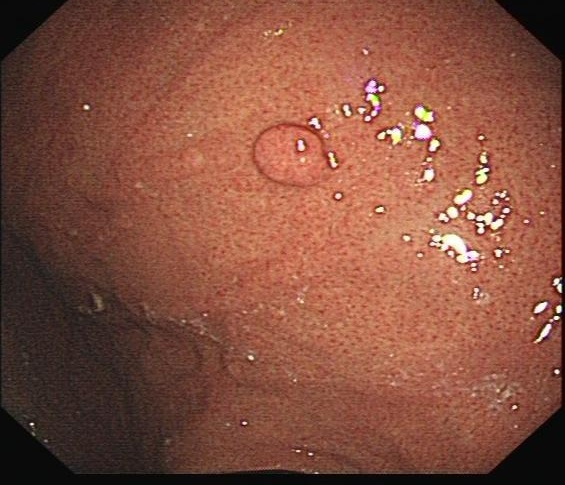Polyp: (257, 120, 335, 191)
